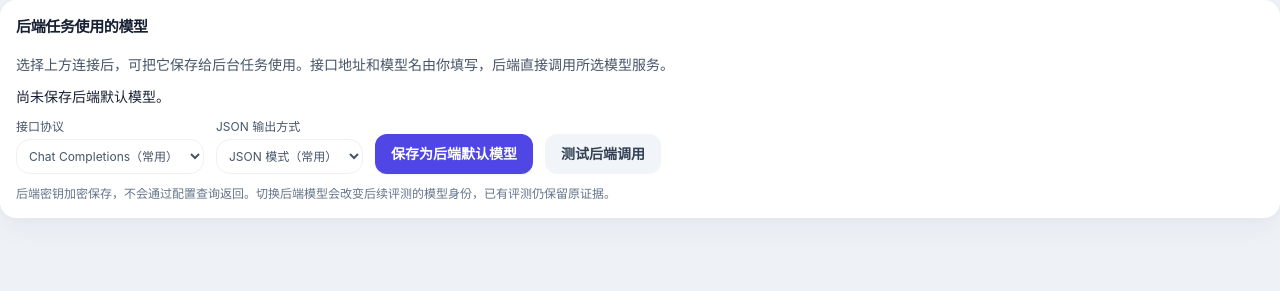
it: custom model for backend tasks › saves the selected arbitrary URL/model and never renders its key
Step 1. Click the button "保存为后端默认模型" → (454, 154), box x1=375 y1=134 x2=533 y2=174
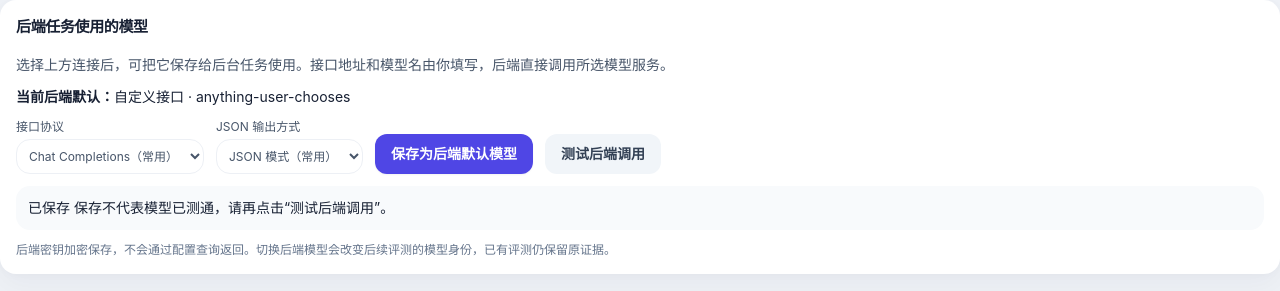
Expected: the text "当前后端默认：" is shown, x1=16 y1=88 x2=114 y2=104
